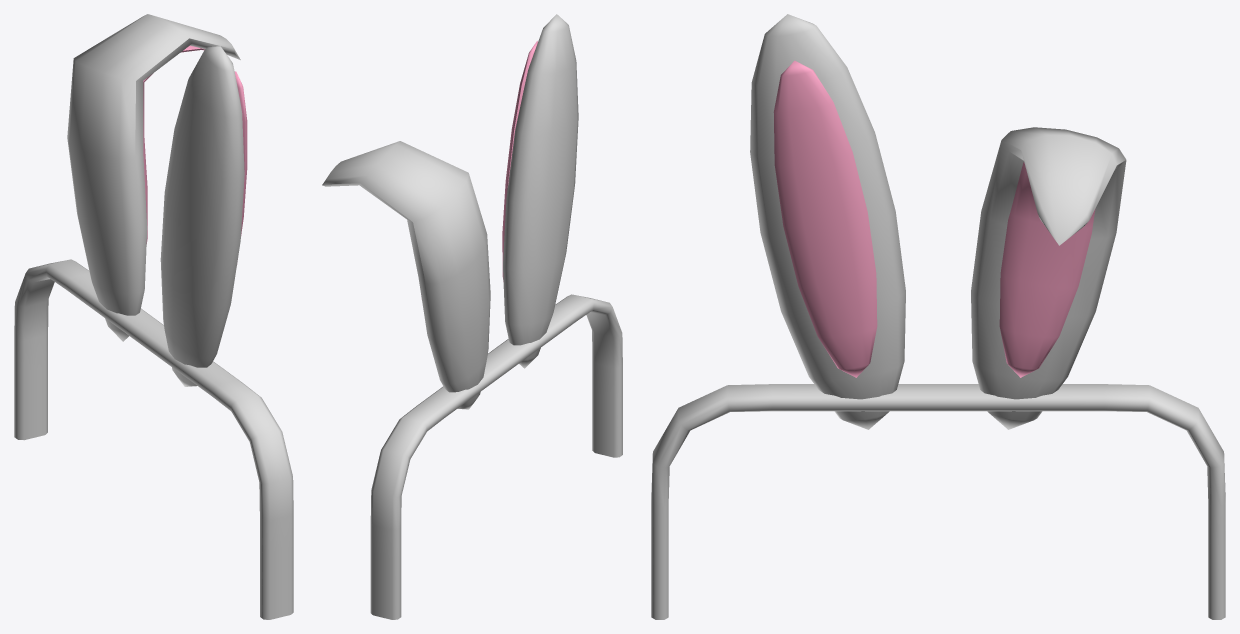
The model's file is acc_bunny.glb.
The picture shows the model from 3 angles, left to right: view 1: azimuth 30°, elevation 25°; view 2: azimuth 150°, elevation 25°; view 3: azimuth 270°, elevation 25°; orthographic projection. The views are drawn at different scales.
Parts seen in each view (by area): view 1: BunnyEars; view 2: BunnyEars; view 3: BunnyEars.
Part boxes in pixels (x1=…): BunnyEars: x1=14, y1=14, x2=293, y2=619; BunnyEars: x1=322, y1=14, x2=622, y2=619; BunnyEars: x1=651, y1=14, x2=1225, y2=619.
Bounding box in the file's own units: 0.1757 × 0.5377 × 0.468.
